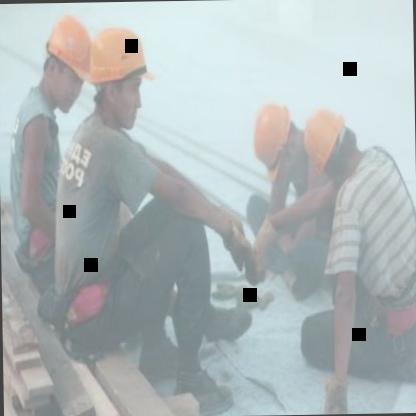helmet: (78, 17, 151, 131), (38, 9, 98, 114), (248, 95, 303, 179), (300, 98, 354, 178)
